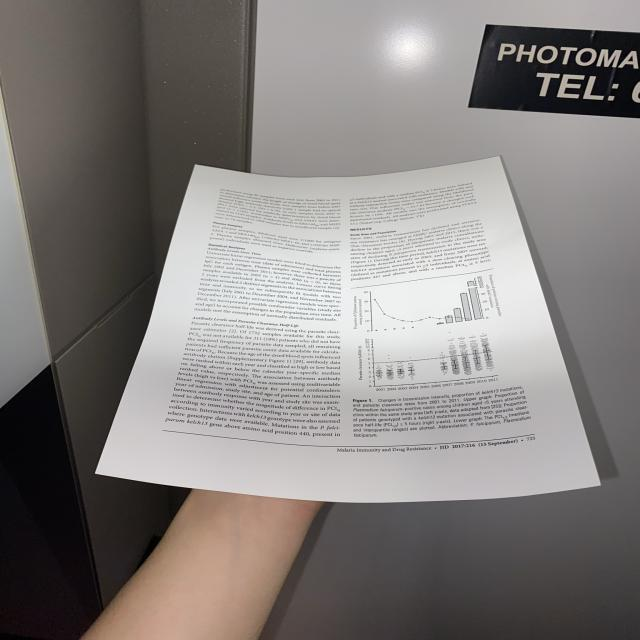document: (98, 158, 598, 502)
